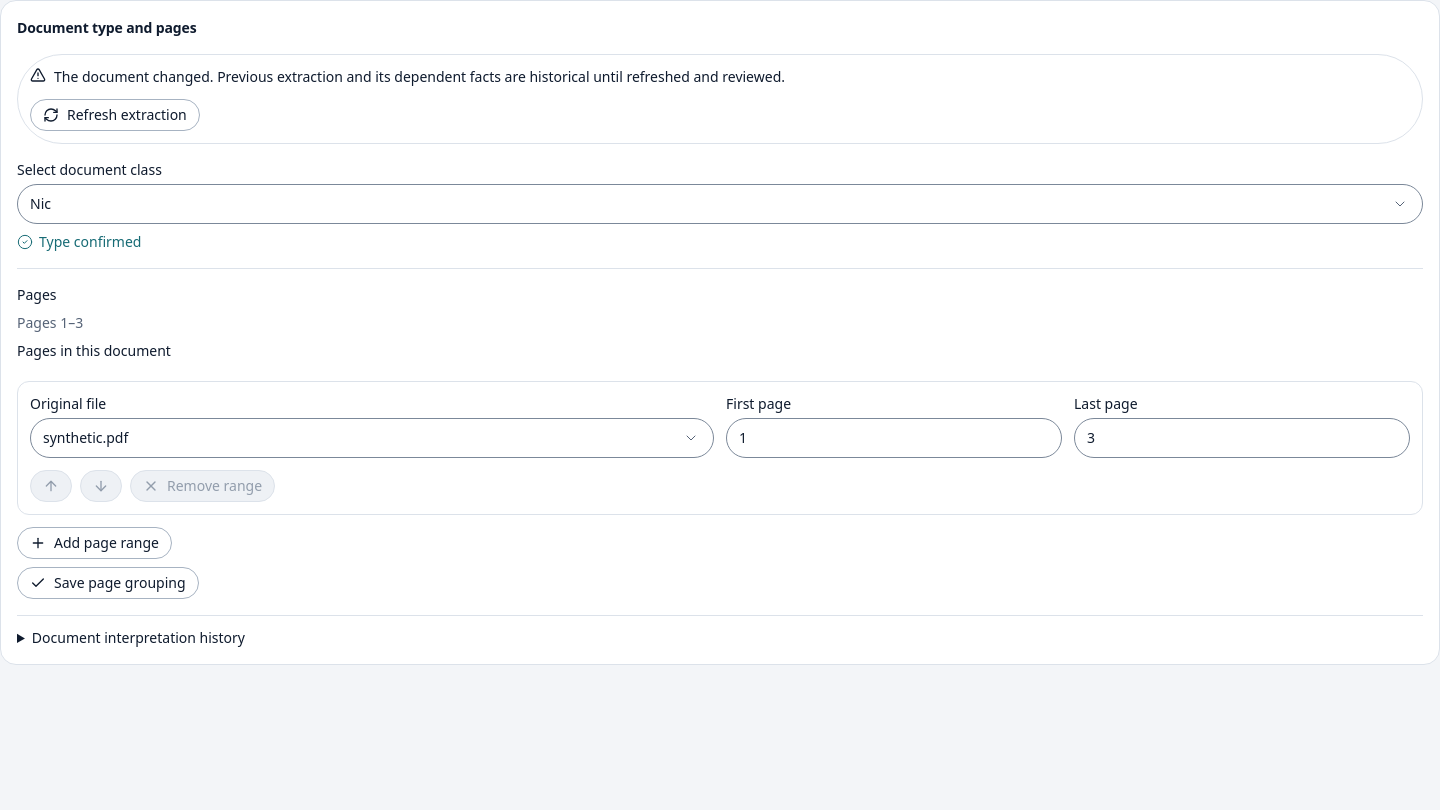
Test: refuses a first grouping POST when the reviewed document has changed
Replace the text in the number field labelled "Last page" with "1": (1242, 438) left=1074, top=418, right=1410, bottom=458
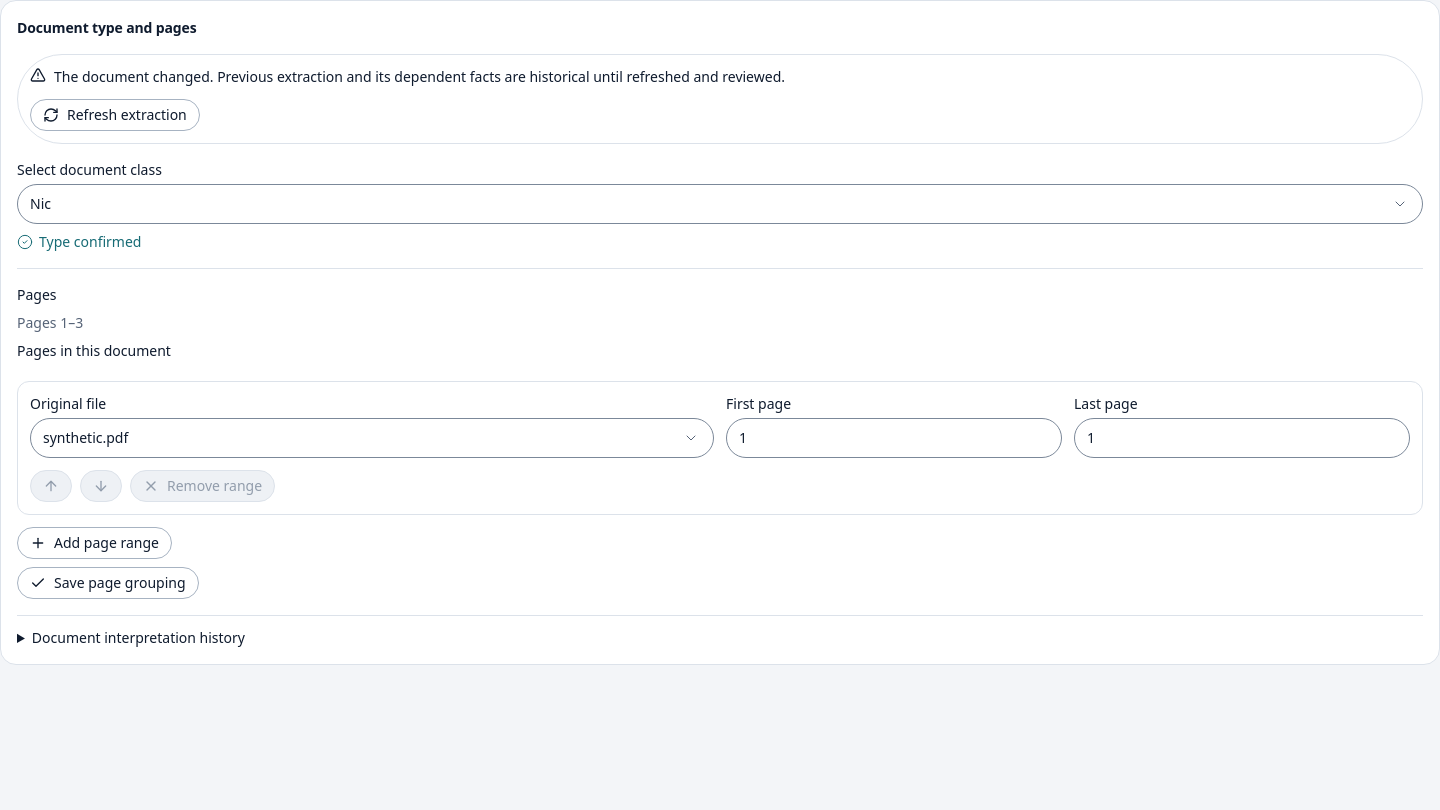
Click the button "Save page grouping": (108, 583) left=17, top=567, right=198, bottom=599
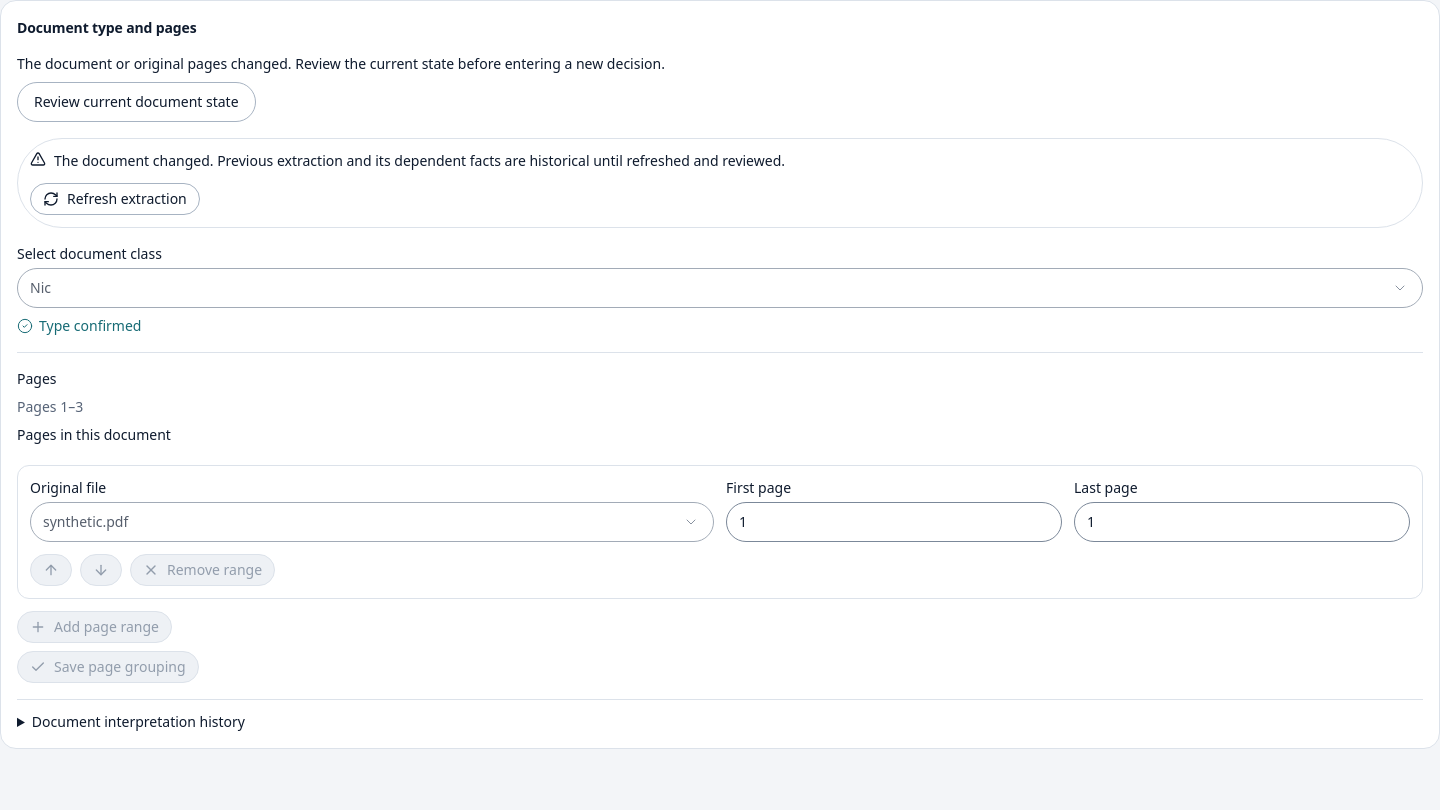
Check: the button "Review current document state" is shown, box left=17, top=82, right=256, bottom=122
Check: the button "Save page grouping" is disabled, box left=17, top=651, right=198, bottom=683
